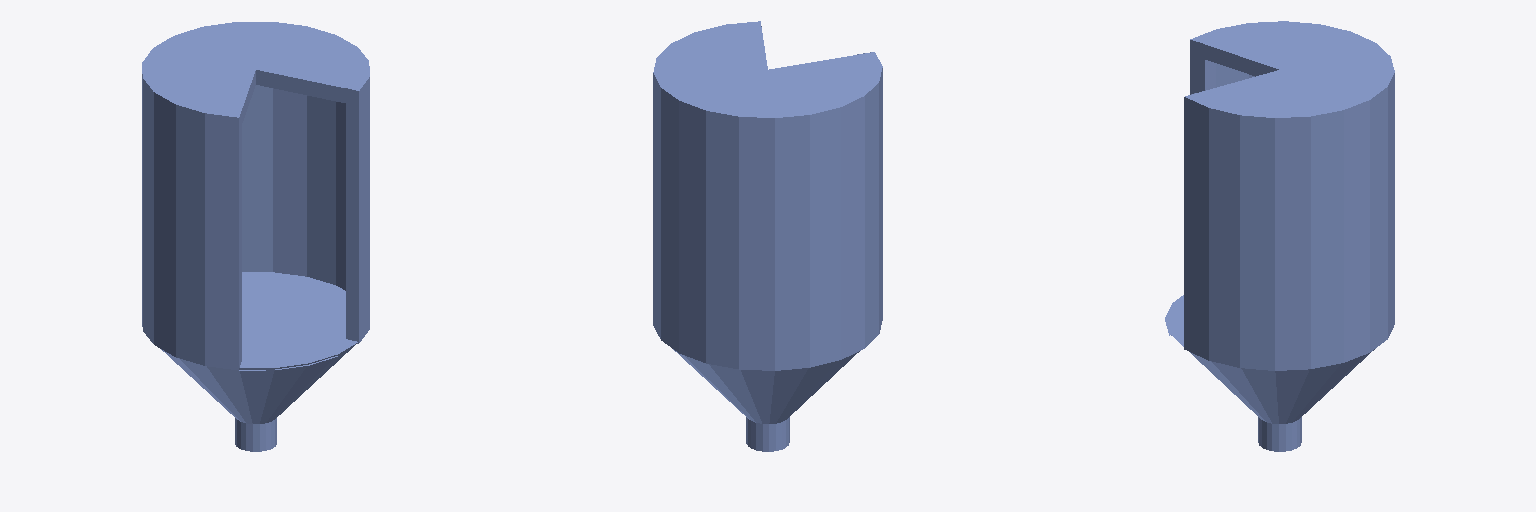
Rendered from valve.obj.
3 views of the same model, side by side, from view 1: azimuth 30°, elevation 25°; view 2: azimuth 150°, elevation 25°; view 3: azimuth 270°, elevation 25° (orthographic).
Visible parts, largest first — view 1: polySurface4 group9; view 2: polySurface4 group9; view 3: polySurface4 group9.
Part boxes in pixels (left/top/right/bottom): polySurface4 group9: left=142, top=22, right=369, bottom=451; polySurface4 group9: left=653, top=21, right=882, bottom=451; polySurface4 group9: left=1165, top=21, right=1394, bottom=451.
Size of the model in its own units: 2.53 by 4.53 by 2.53.